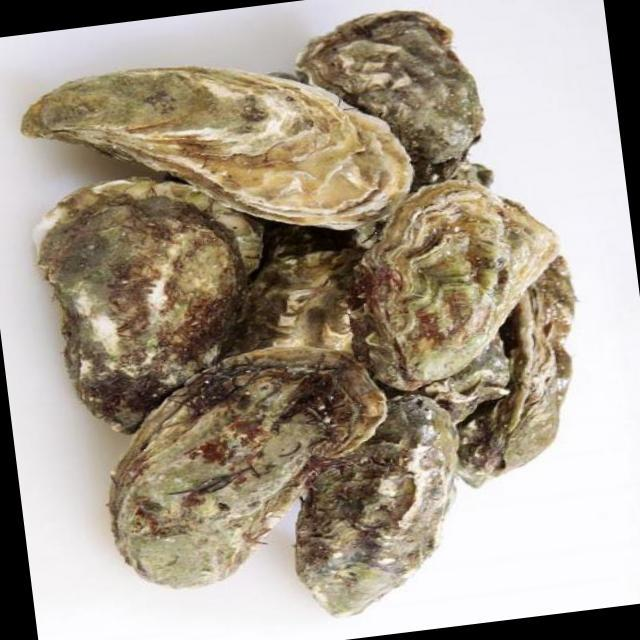Oyster- Indeterminate: (103, 335, 401, 602), (6, 57, 420, 243), (20, 163, 270, 439), (350, 177, 570, 394), (288, 386, 468, 625), (284, 0, 498, 189), (447, 250, 587, 497), (228, 244, 381, 378), (416, 330, 517, 430), (452, 153, 501, 197)
